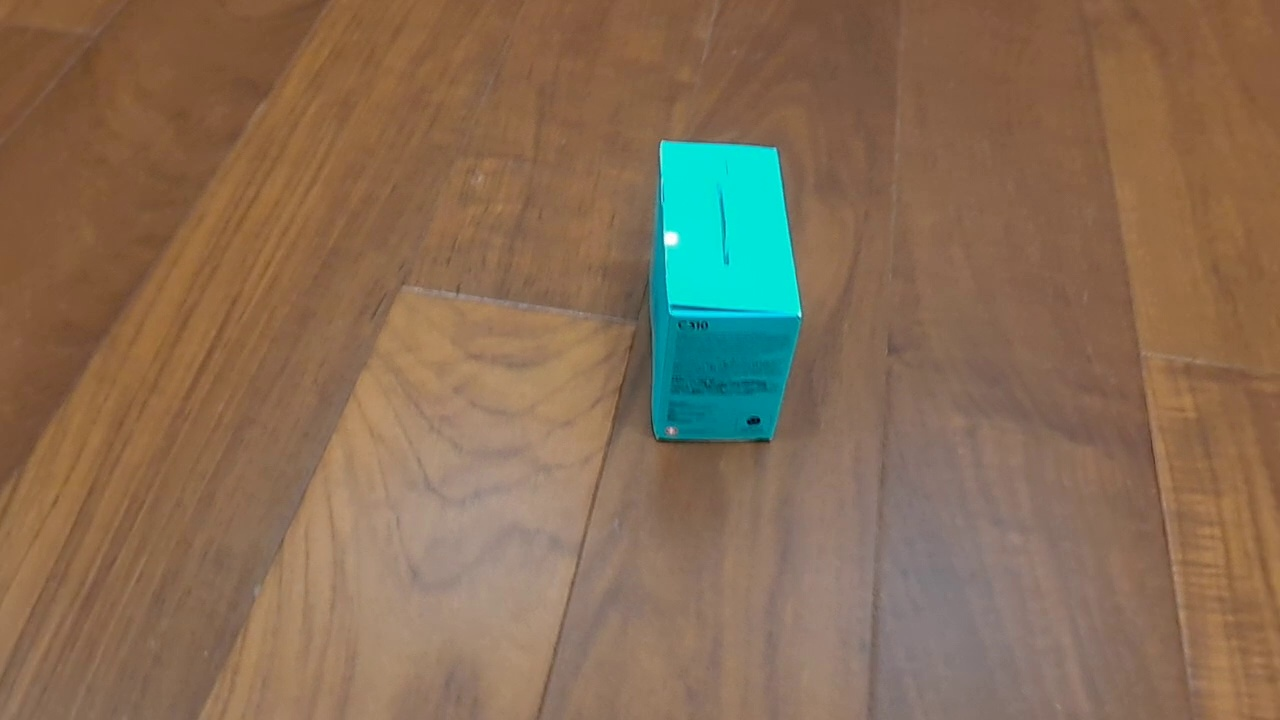webcam: (646, 137, 806, 446)
